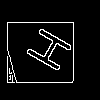H: (25, 25, 82, 79)
